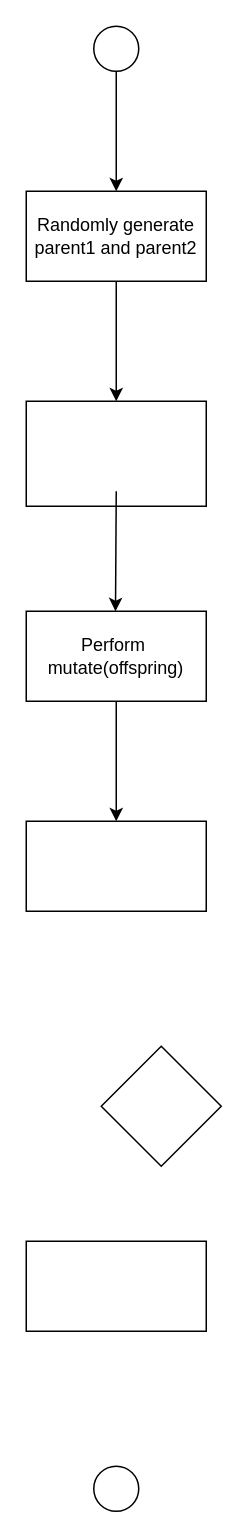
Some shapes in this 248 by 1538 pixel diagram are drawn without their labels. The box of each missing label's shape, as (x1, y1, x2, y2) in pixels:
Get offspring_cost: (25, 820, 206, 911)
Perform partially_matched_ crossover(parent1, parent2): (25, 400, 206, 506)
